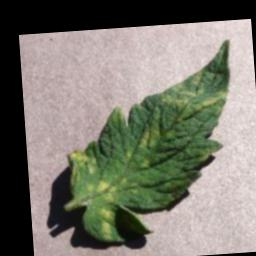Leaf_Mold: (67, 149, 96, 176), (94, 179, 118, 204), (98, 208, 116, 241)
